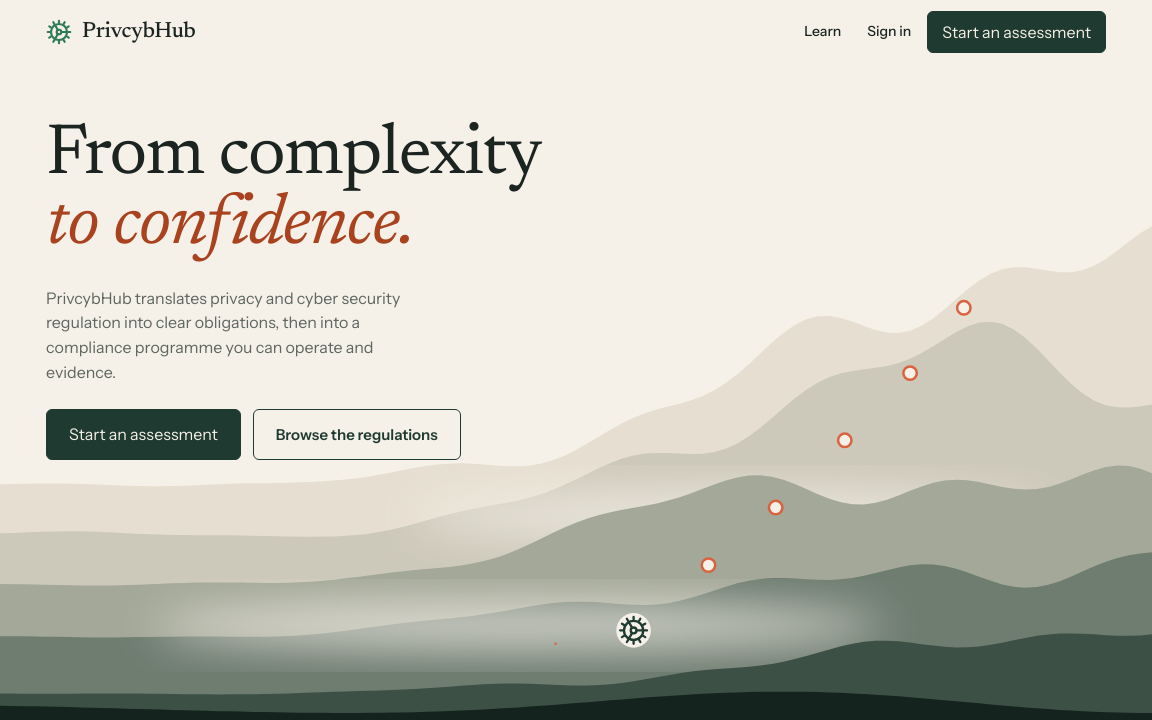
Test: LandingPage › sends a signed-in visitor to their assessments
This screenshot has width=1152, height=720.
Click the 1st button "Start an assessment" at coordinates (1017, 32), box [927, 11, 1106, 53]
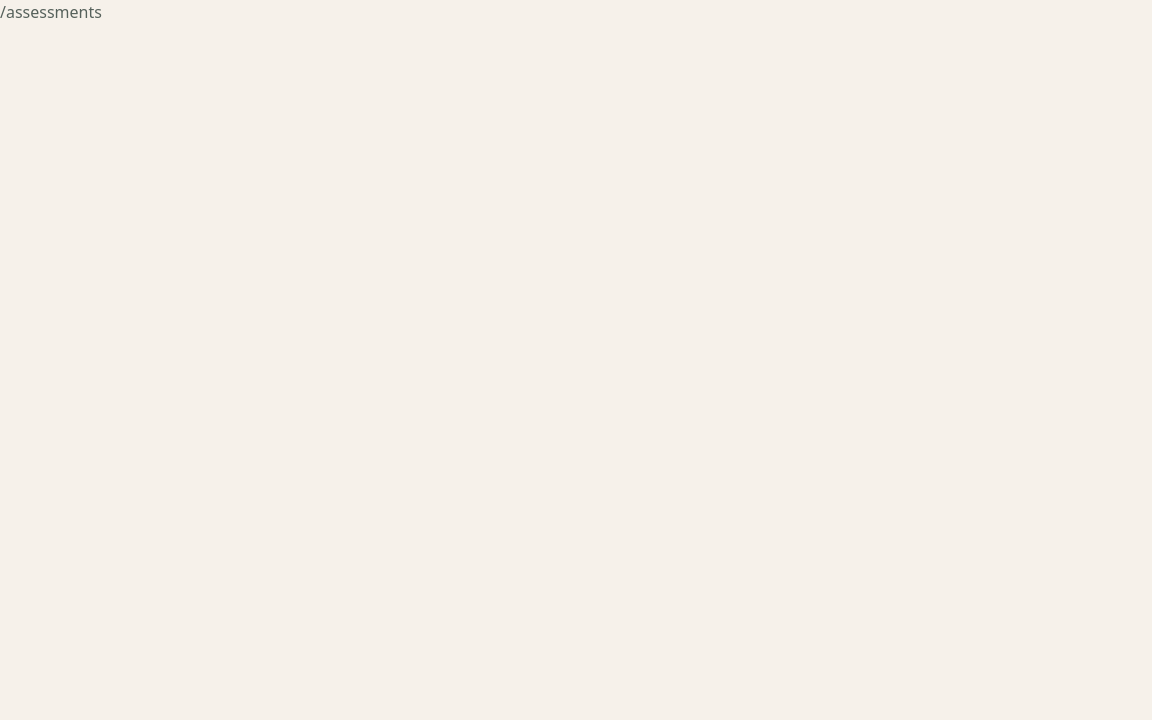
Now the text with test id "where" reads "/assessments", box [0, 1, 102, 23]
